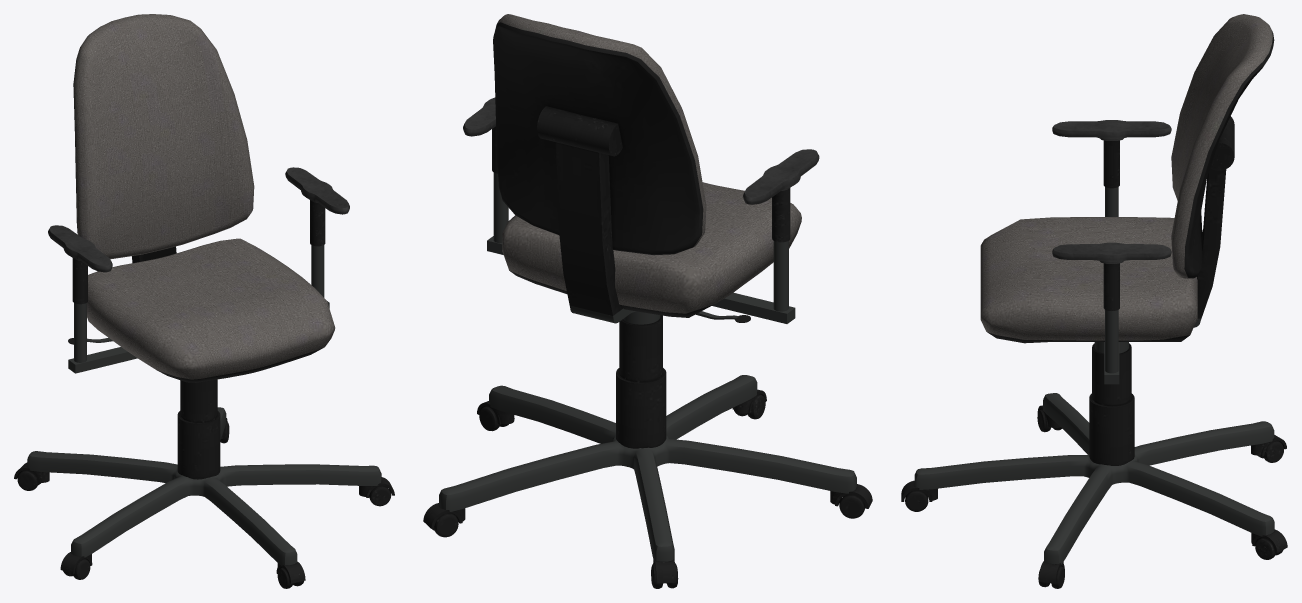
File: office_chair-C_5xa2pa.glb
The picture shows the model from 3 angles, left to right: view 1: azimuth 30°, elevation 25°; view 2: azimuth 150°, elevation 25°; view 3: azimuth 270°, elevation 25°; orthographic projection. The views are drawn at different scales.
Visible parts, largest first — view 1: OfficeChair_OfficeChairCloth_0, OfficeChair_OfficeChairMetal_0, OfficeChair_OfficeChairPlastic_0, OfficeChair_OfficeChairLeather_0; view 2: OfficeChair_OfficeChairPlastic_0, OfficeChair_OfficeChairMetal_0, OfficeChair_OfficeChairCloth_0, OfficeChair_OfficeChairLeather_0; view 3: OfficeChair_OfficeChairCloth_0, OfficeChair_OfficeChairMetal_0, OfficeChair_OfficeChairPlastic_0, OfficeChair_OfficeChairLeather_0.
Boxes of the visible parts, x1,y1,x2,y2 form: OfficeChair_OfficeChairCloth_0: (73,14,335,379); OfficeChair_OfficeChairMetal_0: (27,245,381,566); OfficeChair_OfficeChairPlastic_0: (14,54,394,588); OfficeChair_OfficeChairLeather_0: (48,167,349,272); OfficeChair_OfficeChairPlastic_0: (423,22,872,588); OfficeChair_OfficeChairMetal_0: (439,172,856,561); OfficeChair_OfficeChairCloth_0: (497,14,801,313); OfficeChair_OfficeChairLeather_0: (463,97,819,204); OfficeChair_OfficeChairCloth_0: (980,14,1272,340); OfficeChair_OfficeChairMetal_0: (914,187,1274,564); OfficeChair_OfficeChairPlastic_0: (901,31,1287,588); OfficeChair_OfficeChairLeather_0: (1052,120,1171,263).
Bounding box in the file's own units: 97.3 × 126 × 92.63.
4 materials, 3 textured.
